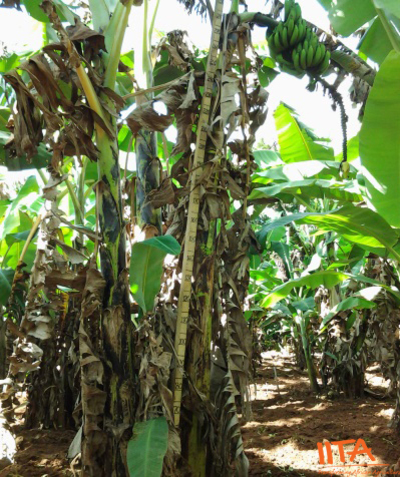bananaHand: (261, 3, 333, 80)
